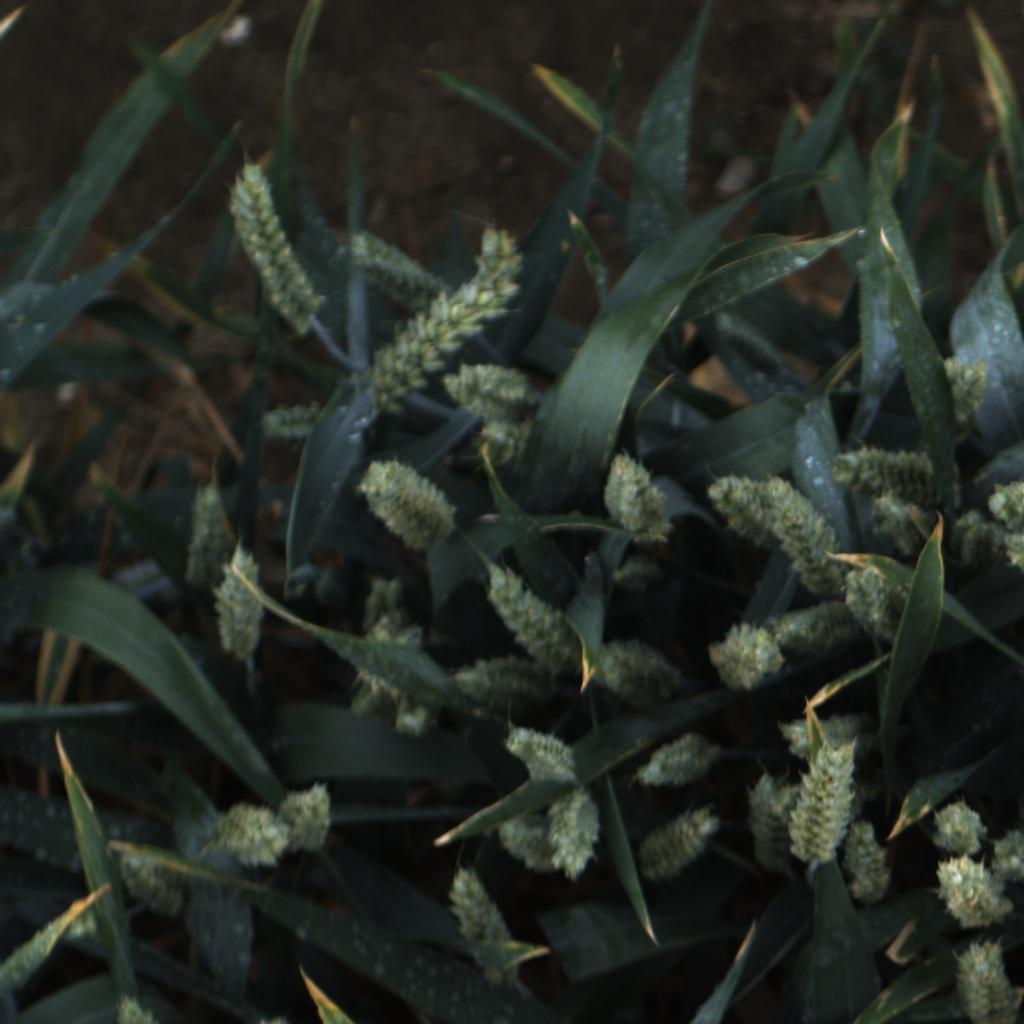0-0: (362, 220, 528, 411), (227, 159, 321, 334), (479, 557, 588, 676), (823, 440, 968, 516), (784, 738, 860, 871), (357, 451, 457, 552), (446, 865, 521, 992), (764, 476, 838, 590), (344, 227, 441, 311), (204, 542, 267, 669), (741, 775, 815, 881), (599, 449, 674, 552), (350, 622, 434, 712), (175, 470, 237, 590), (591, 638, 689, 712), (444, 356, 547, 424), (635, 807, 723, 884), (932, 855, 1014, 935), (443, 652, 555, 709), (114, 846, 193, 924), (707, 620, 788, 694), (772, 708, 879, 764), (699, 456, 763, 547), (545, 784, 603, 883), (950, 942, 1020, 1024), (842, 810, 900, 908), (498, 722, 585, 787), (634, 729, 723, 791), (213, 800, 288, 873), (773, 599, 867, 657), (246, 391, 328, 455), (839, 564, 902, 645), (498, 811, 568, 881), (868, 488, 936, 557), (276, 778, 337, 853), (936, 349, 994, 426), (471, 406, 537, 470), (923, 796, 991, 858), (952, 505, 1003, 569), (981, 822, 1024, 897), (360, 573, 410, 634), (607, 555, 666, 594), (986, 476, 1024, 531), (108, 989, 163, 1023), (391, 701, 433, 742), (999, 531, 1024, 578), (890, 578, 918, 614)
